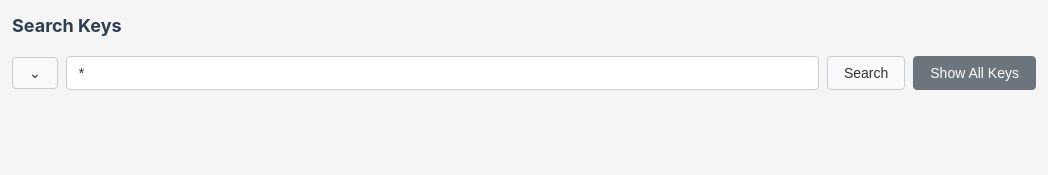
Test: KeysSearchSection - Search History › should show empty state when history is empty
The width and height of the screenshot is (1048, 175).
Click the button titled "Search History": (35, 73) left=12, top=57, right=58, bottom=89
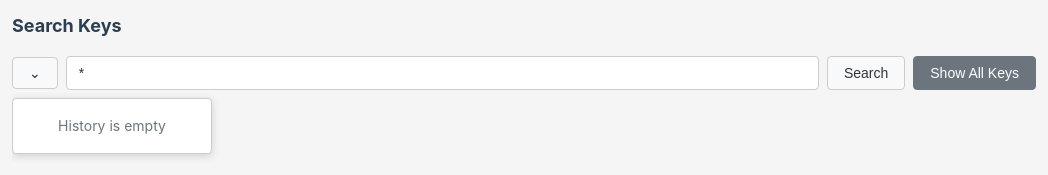
Result: the text "History is empty" is shown at left=58, top=117, right=166, bottom=134
